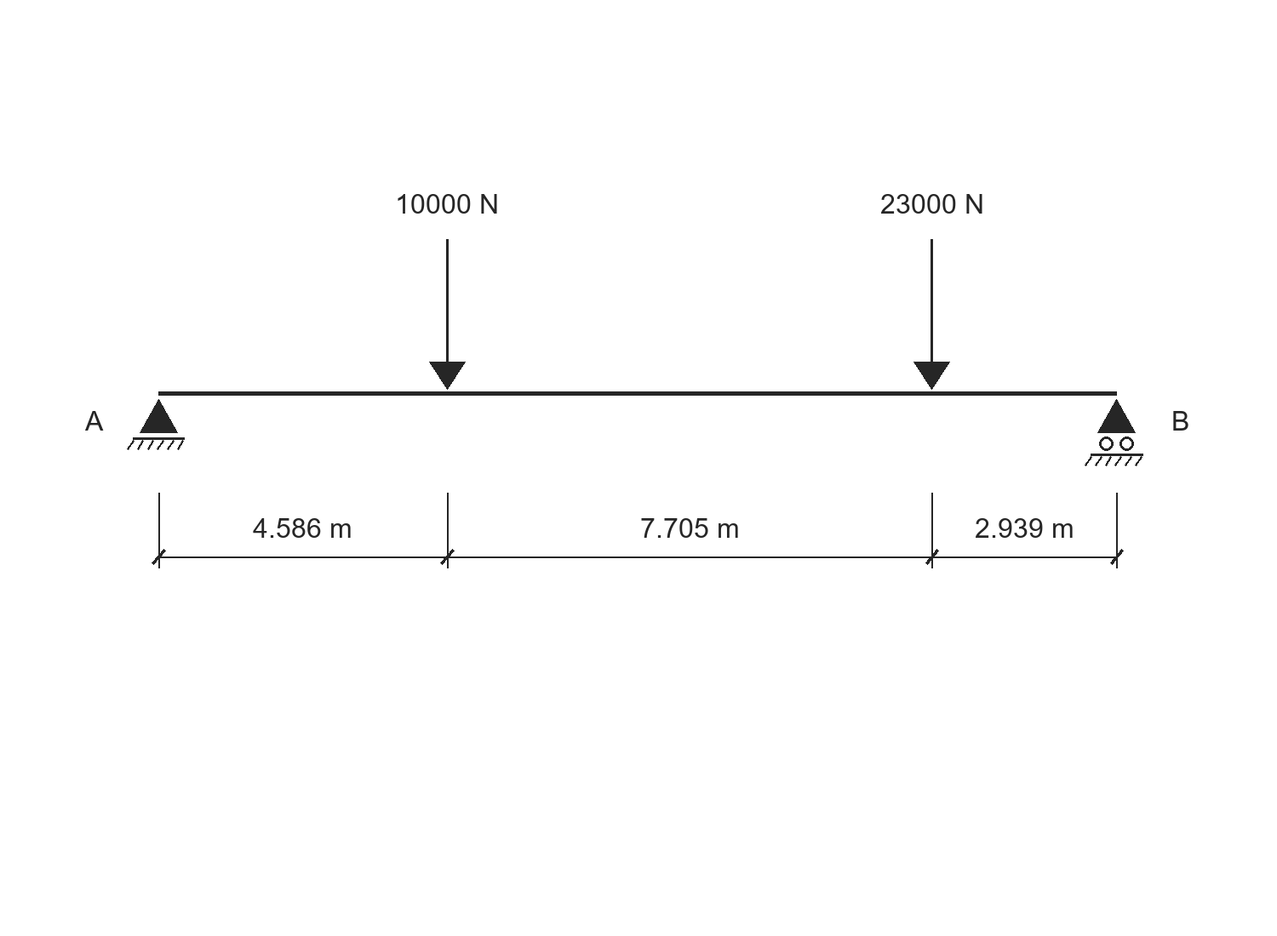pin_support: (127, 399, 185, 450)
point_load: (429, 239, 466, 390), (913, 239, 950, 390)
roller_support: (1085, 399, 1143, 466)
